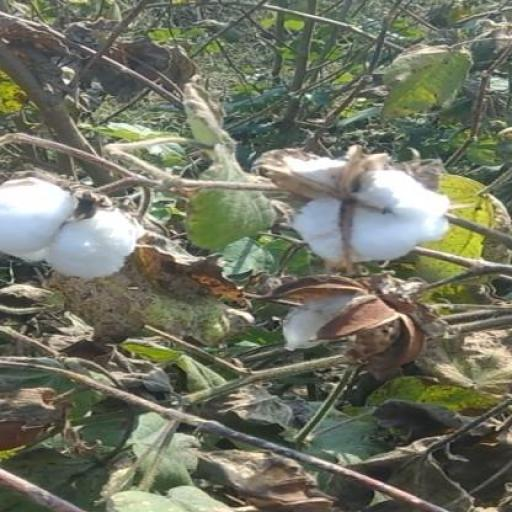cotton_ready: (249, 134, 470, 272)
